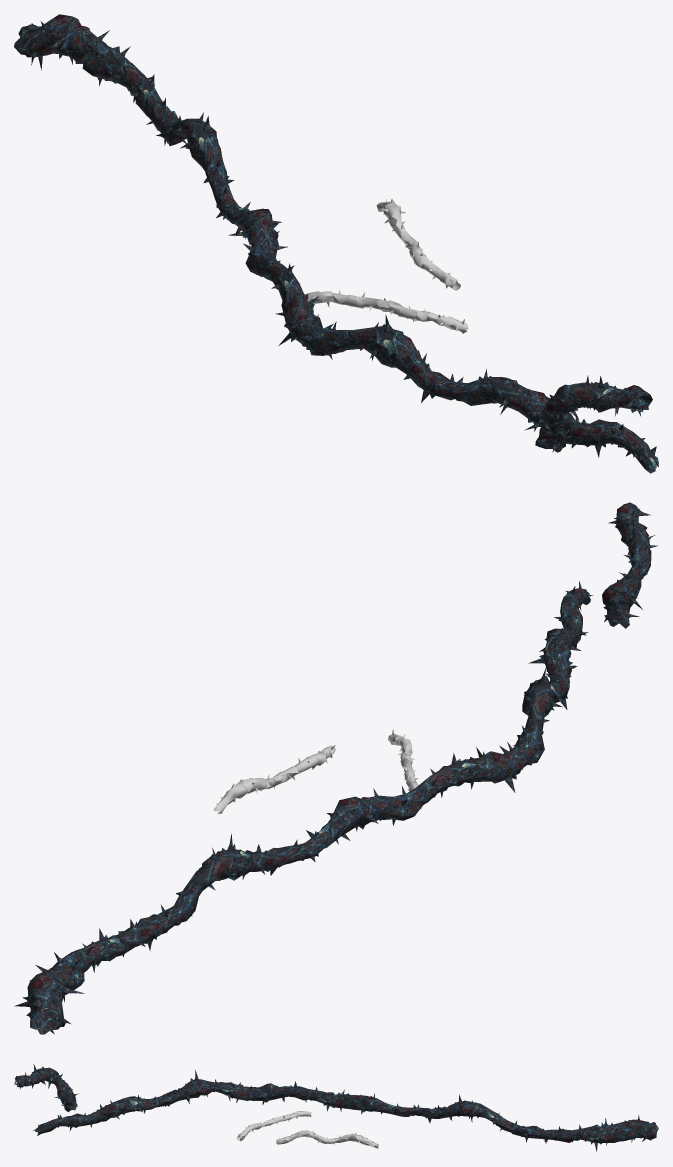
File: 02_16_makaizyu_03.fbx
The picture shows the model from 3 angles, top to bottom: view 1: azimuth 30°, elevation 25°; view 2: azimuth 150°, elevation 25°; view 3: azimuth 270°, elevation 25°; orthographic projection. The views are drawn at different scales.
Visible parts, largest first — view 1: LODGroup_3_MainMesh_1_SubMesh_1, LODGroup_3_MainMesh_1_SubMesh_2; view 2: LODGroup_3_MainMesh_1_SubMesh_1, LODGroup_3_MainMesh_1_SubMesh_2; view 3: LODGroup_3_MainMesh_1_SubMesh_1, LODGroup_3_MainMesh_1_SubMesh_2.
Boxes of the visible parts, x1=… form: LODGroup_3_MainMesh_1_SubMesh_1: x1=14, y1=14, x2=658, y2=473; LODGroup_3_MainMesh_1_SubMesh_2: x1=305, y1=199, x2=468, y2=333; LODGroup_3_MainMesh_1_SubMesh_1: x1=14, y1=502, x2=658, y2=1034; LODGroup_3_MainMesh_1_SubMesh_2: x1=213, y1=729, x2=422, y2=813; LODGroup_3_MainMesh_1_SubMesh_1: x1=14, y1=1064, x2=658, y2=1151; LODGroup_3_MainMesh_1_SubMesh_2: x1=237, y1=1111, x2=378, y2=1148.
Bounding box in the file's own units: 1347 × 798 × 6610.
